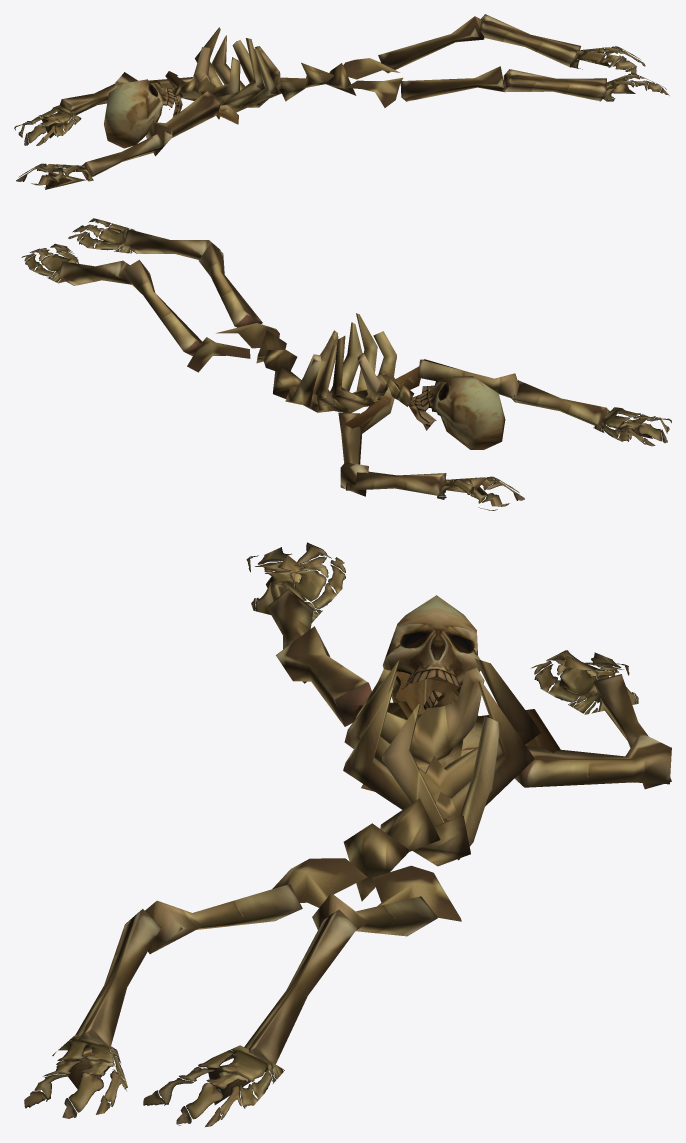
File: skeletonlaying02.obj
3 views of the same model, one above another, from view 1: azimuth 30°, elevation 25°; view 2: azimuth 150°, elevation 25°; view 3: azimuth 270°, elevation 25° (orthographic). The views are drawn at different scales.
Parts seen in each view (by area): view 1: Geoset0, Geoset1, Geoset2; view 2: Geoset0, Geoset1, Geoset2; view 3: Geoset0, Geoset2, Geoset1.
Boxes of the visible parts, x1=… form: Geoset0: x1=42, y1=14, x2=635, y2=189; Geoset1: x1=104, y1=71, x2=238, y2=148; Geoset2: x1=14, y1=46, x2=669, y2=187; Geoset0: x1=52, y1=227, x2=652, y2=496; Geoset1: x1=344, y1=366, x2=505, y2=449; Geoset2: x1=21, y1=218, x2=671, y2=510; Geoset0: x1=64, y1=555, x2=671, y2=1104; Geoset2: x1=24, y1=542, x2=638, y2=1126; Geoset1: x1=347, y1=595, x2=560, y2=791.
Bounding box in the file's own units: 2.57 × 0.3933 × 1.25.
3 materials, 3 textured.
